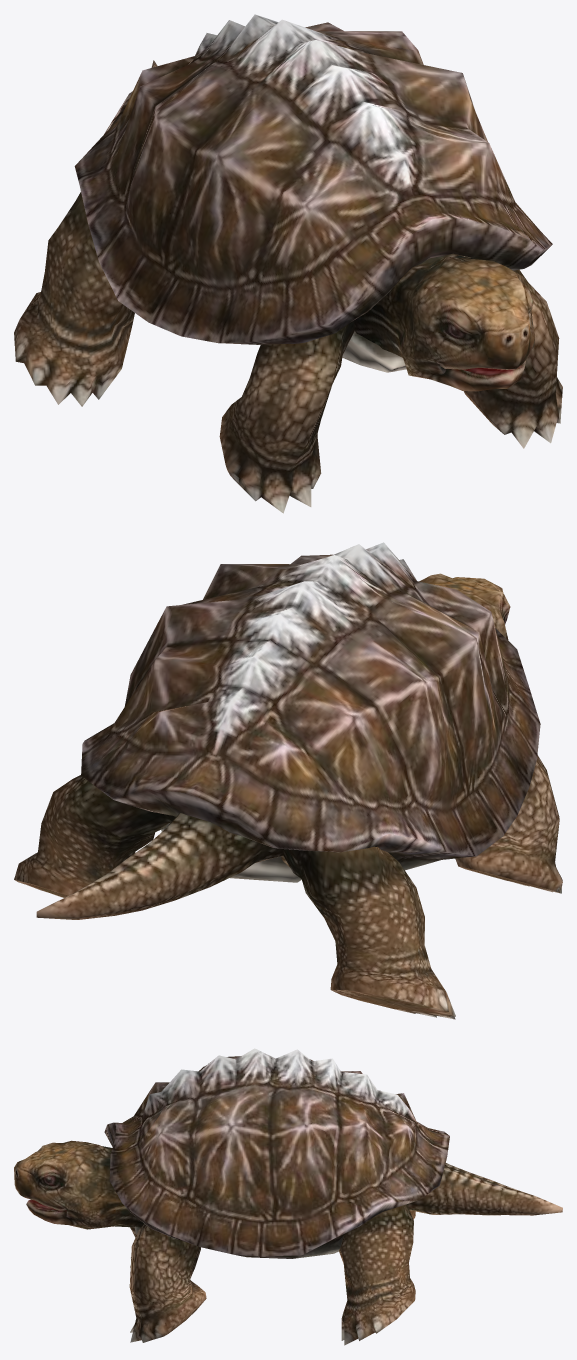
The model's file is 73-warturtle.glb.
3 renders of one model, top to bottom at view 1: azimuth 30°, elevation 25°; view 2: azimuth 150°, elevation 25°; view 3: azimuth 270°, elevation 25°, orthographic. The views are drawn at different scales.
Size of the model in its own units: 5.31 by 4.4 by 8.71.
Materials: 1 (1 with a texture image).
